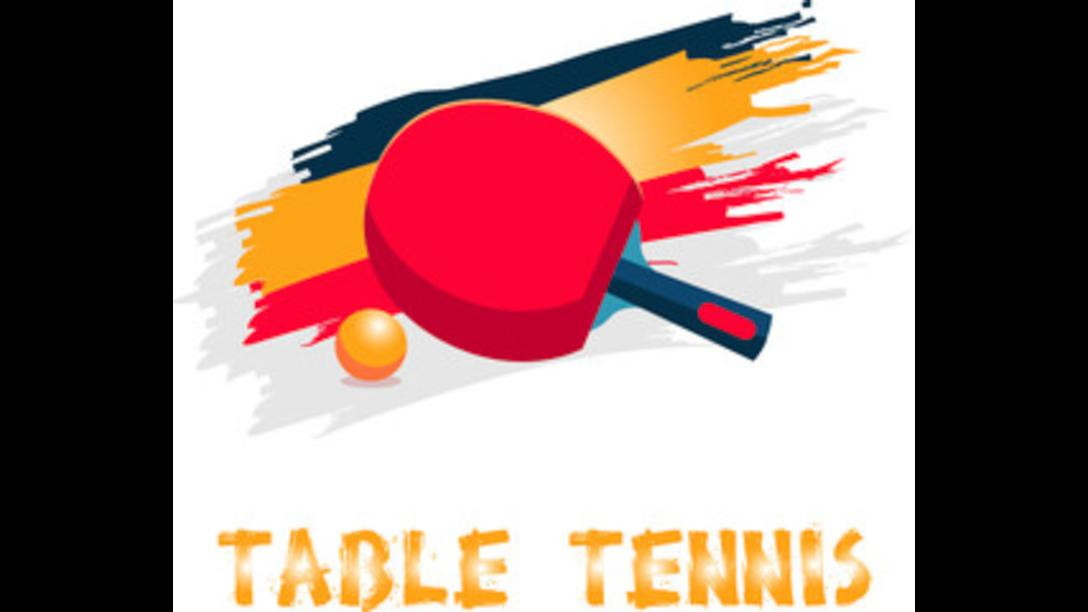Table-Tennis-Ball: (336, 312, 407, 380)
